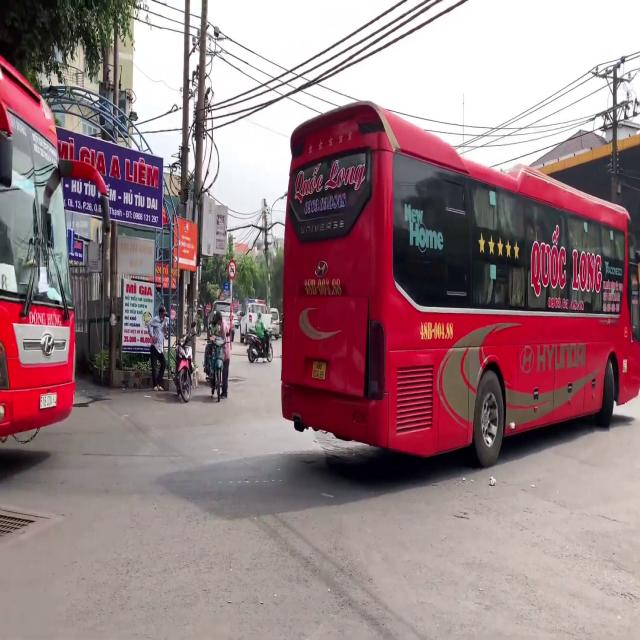bien_trang: (40, 393, 58, 408)
bien_vang: (311, 360, 326, 380)
